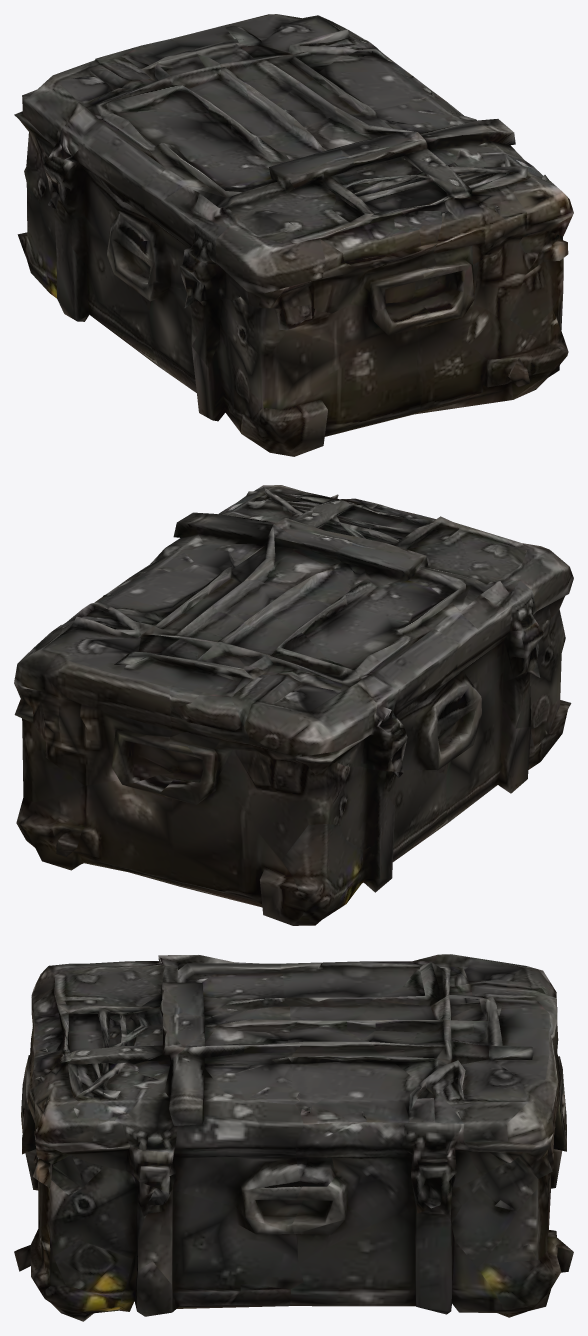
Rendered from crate.glb.
3 renders of one model, top to bottom at view 1: azimuth 30°, elevation 25°; view 2: azimuth 150°, elevation 25°; view 3: azimuth 270°, elevation 25°, orthographic. The views are drawn at different scales.
Parts seen in each view (by area): view 1: tripo_node_42b0cc6a-6bd2-4d2e-80a4-2b7e24e1581a; view 2: tripo_node_42b0cc6a-6bd2-4d2e-80a4-2b7e24e1581a; view 3: tripo_node_42b0cc6a-6bd2-4d2e-80a4-2b7e24e1581a.
Part boxes in pixels (box(x1,y1,x2,y2)): tripo_node_42b0cc6a-6bd2-4d2e-80a4-2b7e24e1581a: box(14, 14, 573, 456); tripo_node_42b0cc6a-6bd2-4d2e-80a4-2b7e24e1581a: box(14, 485, 573, 925); tripo_node_42b0cc6a-6bd2-4d2e-80a4-2b7e24e1581a: box(14, 954, 573, 1321).
Size of the model in its own units: 0.7588 by 0.4802 by 0.9994.
1 material, 1 textured.
